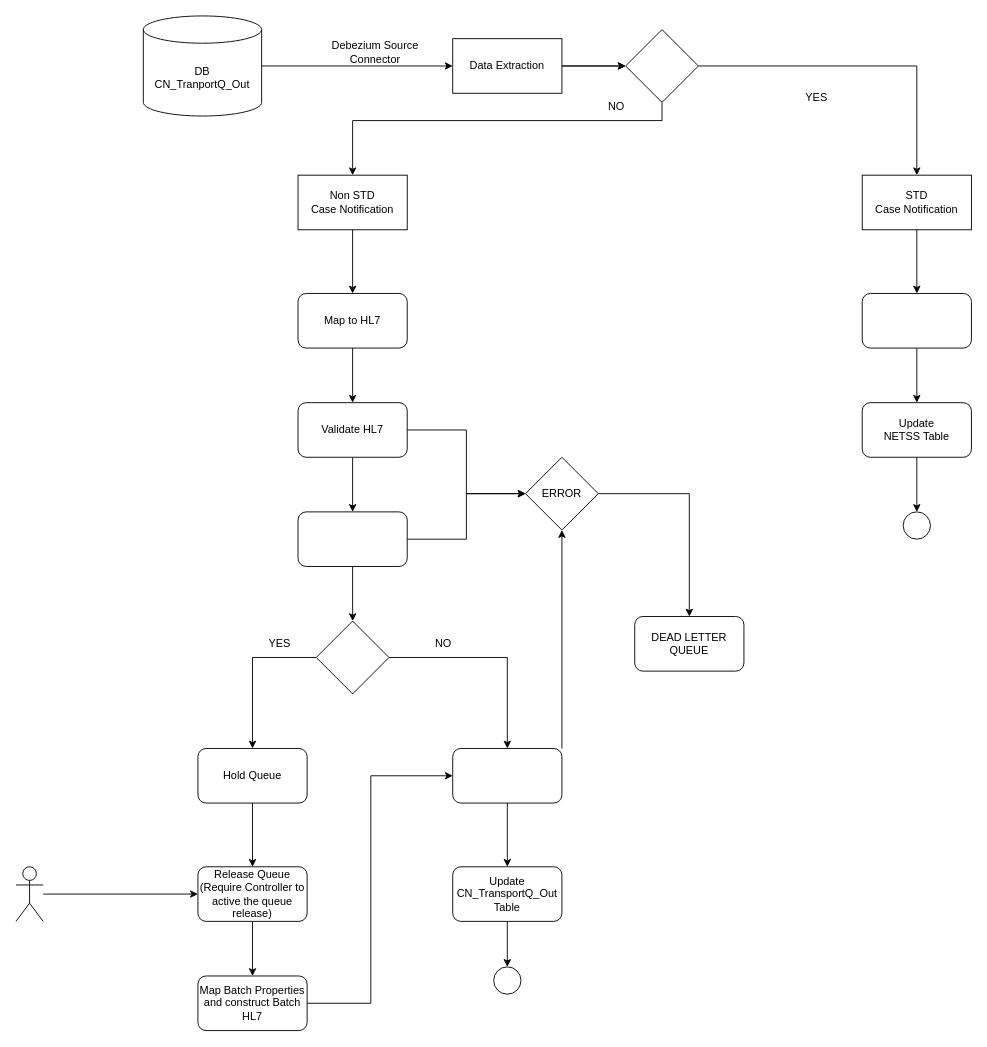
Some shapes in this 987 by 1047 pixel diagram are drawn without their labels. Each missing label, with the box of its shape:
Actor: (15, 866, 43, 921)
Batch: (315, 620, 389, 694)
Map PHINMS Property: (297, 511, 407, 566)
STD: (625, 29, 698, 102)
STD Mapping to NETSS Object: (861, 293, 971, 348)
Update TranportQ_Out Table: (452, 748, 562, 803)
